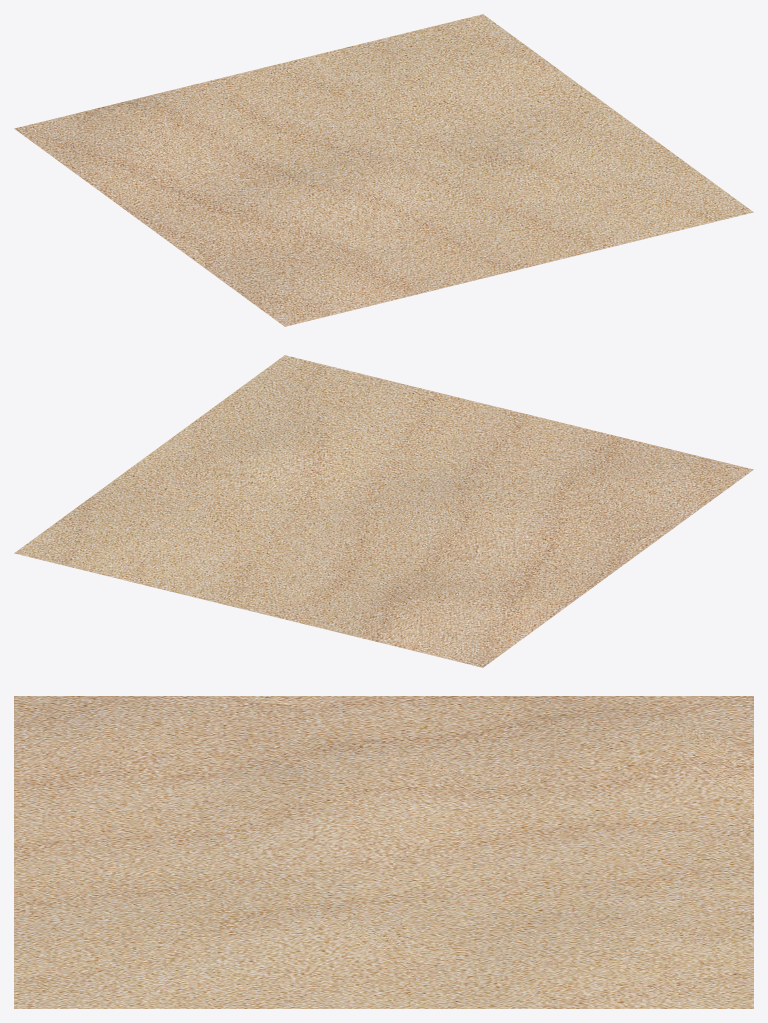
File: sand.glb
The picture shows the model from 3 angles, top to bottom: view 1: azimuth 30°, elevation 25°; view 2: azimuth 150°, elevation 25°; view 3: azimuth 270°, elevation 25°; orthographic projection. The views are drawn at different scales.
Parts seen in each view (by area): view 1: Plane; view 2: Plane; view 3: Plane.
Part boxes in pixels (x1,y1,x2,y2): Plane: (14, 14, 753, 326); Plane: (14, 355, 753, 667); Plane: (14, 696, 753, 1008).
Size of the model in its own units: 20 by 0.4133 by 20.
Materials: 1 (1 with a texture image).
